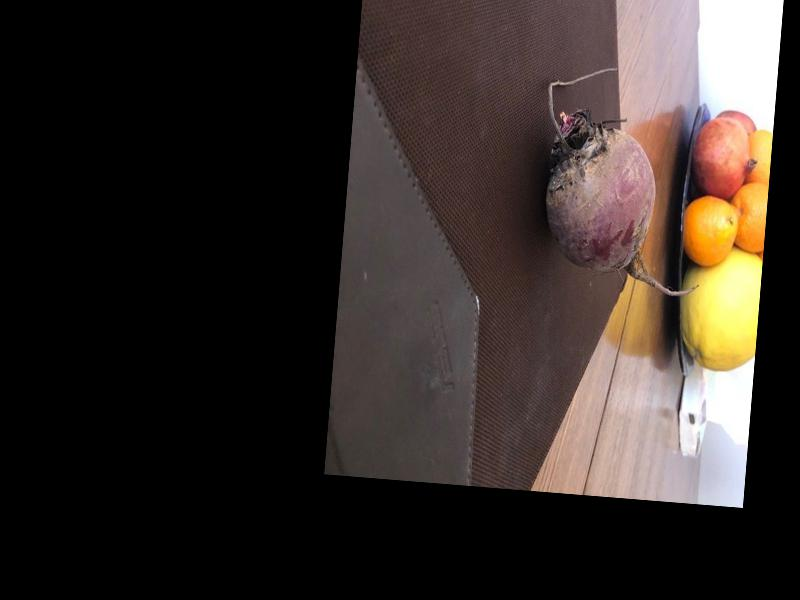Beet: (532, 61, 716, 299)
